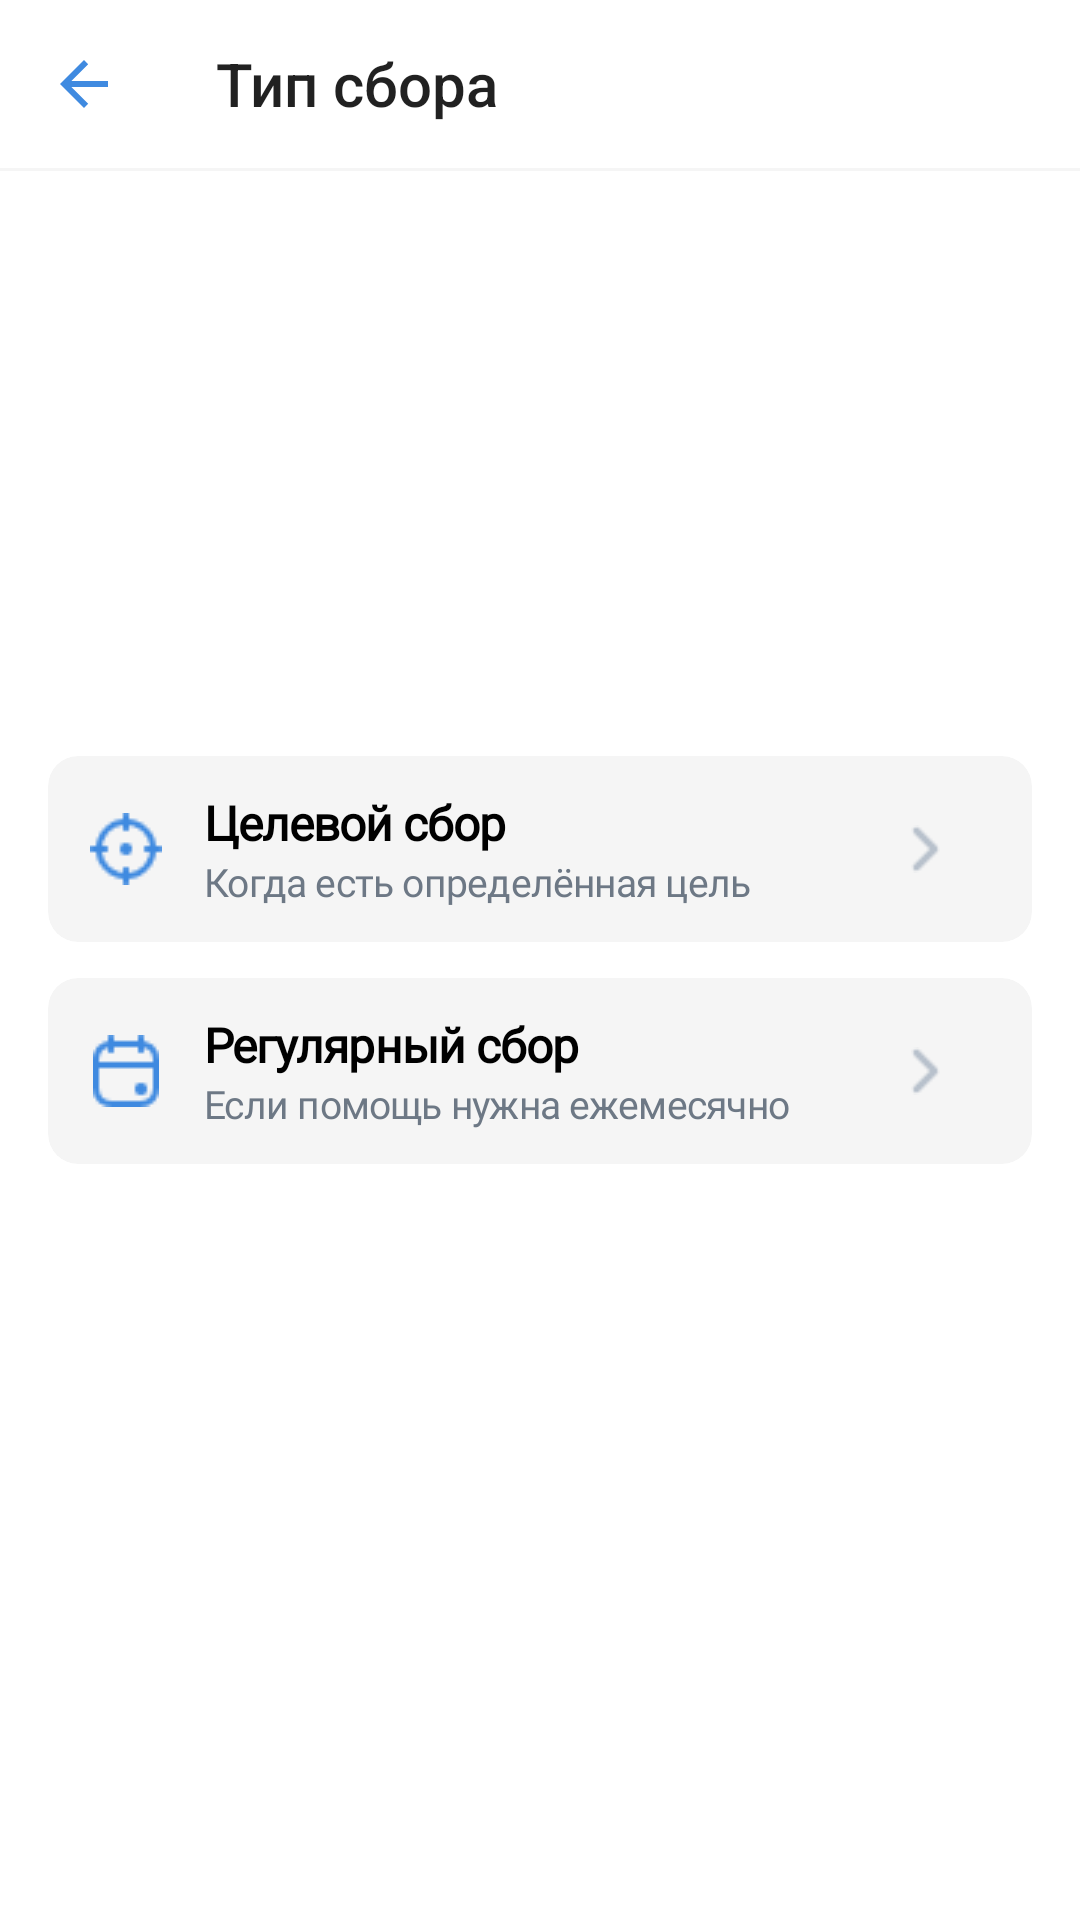

Screen size 1080px×1920px. Icon name, then its box in pixels as (x1,y1,x2,y2):
calendar: (93,1035,159,1107)
crosshair: (90,813,162,885)
right arrow: (913,827,938,871), (913,1049,938,1093)
